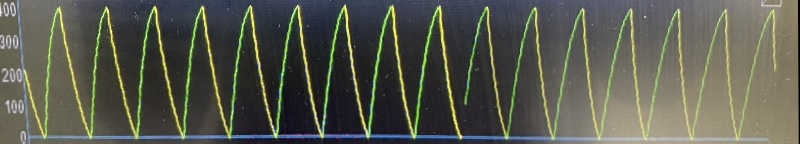normal_volume: (35, 0, 747, 144)
